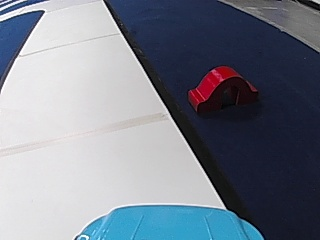bridge: (185, 63, 260, 114)
